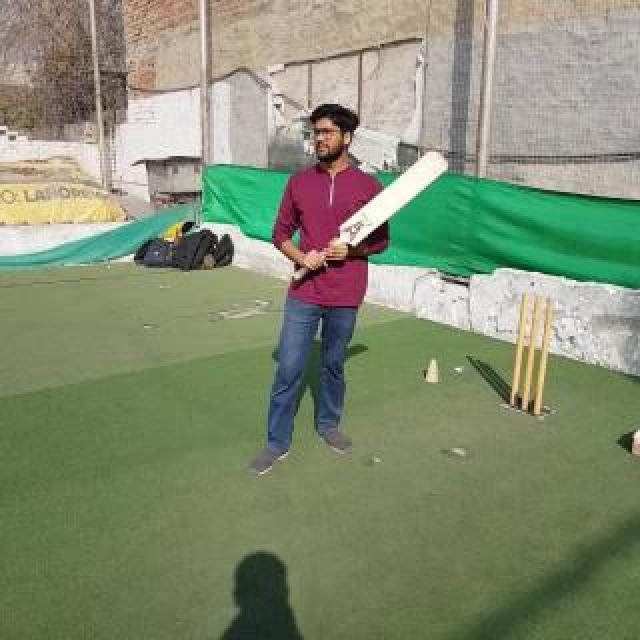bat: (292, 150, 448, 282)
